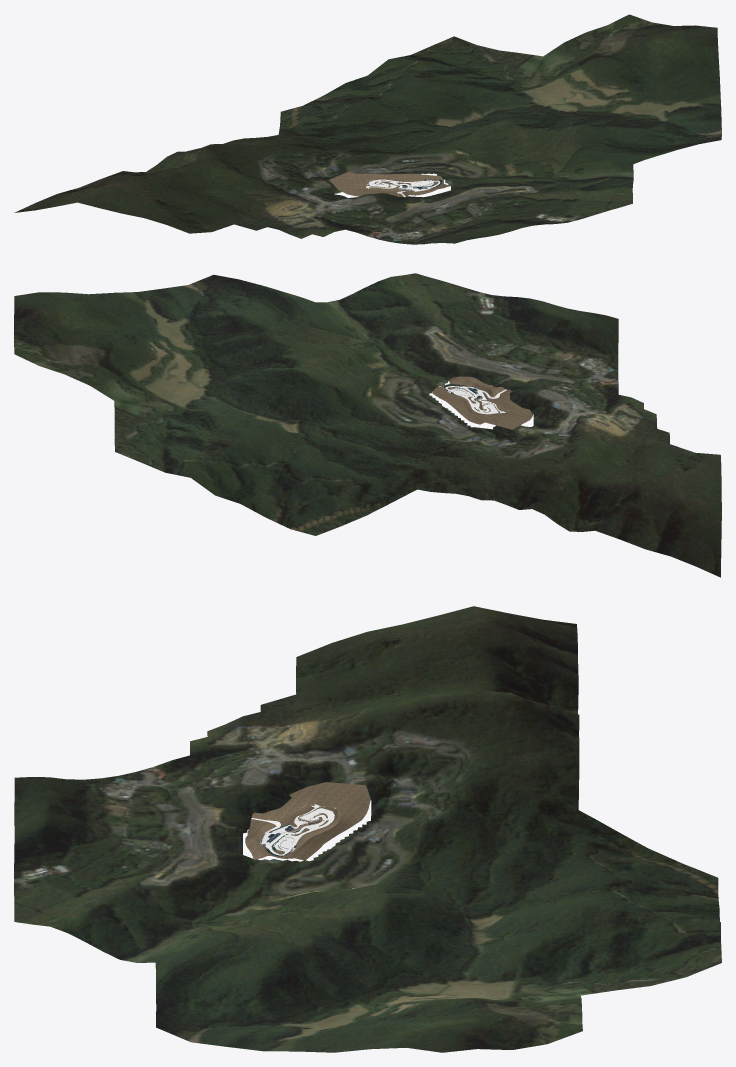
Rendered from minami.fbx.
3 views of the same model, one above another, from view 1: azimuth 30°, elevation 25°; view 2: azimuth 150°, elevation 25°; view 3: azimuth 270°, elevation 25° (orthographic). The views are drawn at different scales.
Parts seen in each view (by area): view 1: GRASS_1, 0OUTGRASS, road_1ROAD_BRIDGE_SUB1_1ROAD_BRIDGE_SUB1, 1KERB_SUB3; view 2: GRASS_1, 0OUTGRASS, 1KERB_SUB3, road_1ROAD_BRIDGE_SUB1_1ROAD_BRIDGE_SUB1; view 3: GRASS_1, 0OUTGRASS, road_1ROAD_BRIDGE_SUB1_1ROAD_BRIDGE_SUB1, 1KERB_SUB3.
Boxes of the visible parts, box(x1,y1,x2,y2) form: GRASS_1: box(14, 14, 721, 244); 0OUTGRASS: box(329, 171, 451, 196); road_1ROAD_BRIDGE_SUB1_1ROAD_BRIDGE_SUB1: box(366, 179, 440, 197); 1KERB_SUB3: box(366, 178, 445, 192); GRASS_1: box(14, 273, 721, 577); 0OUTGRASS: box(432, 376, 532, 429); 1KERB_SUB3: box(439, 381, 508, 415); road_1ROAD_BRIDGE_SUB1_1ROAD_BRIDGE_SUB1: box(445, 386, 506, 423); GRASS_1: box(14, 606, 721, 1052); 0OUTGRASS: box(245, 782, 370, 860); road_1ROAD_BRIDGE_SUB1_1ROAD_BRIDGE_SUB1: box(251, 804, 334, 855); 1KERB_SUB3: box(255, 805, 342, 858).
Bounding box in the file's own units: 3742 × 339 × 2169.
